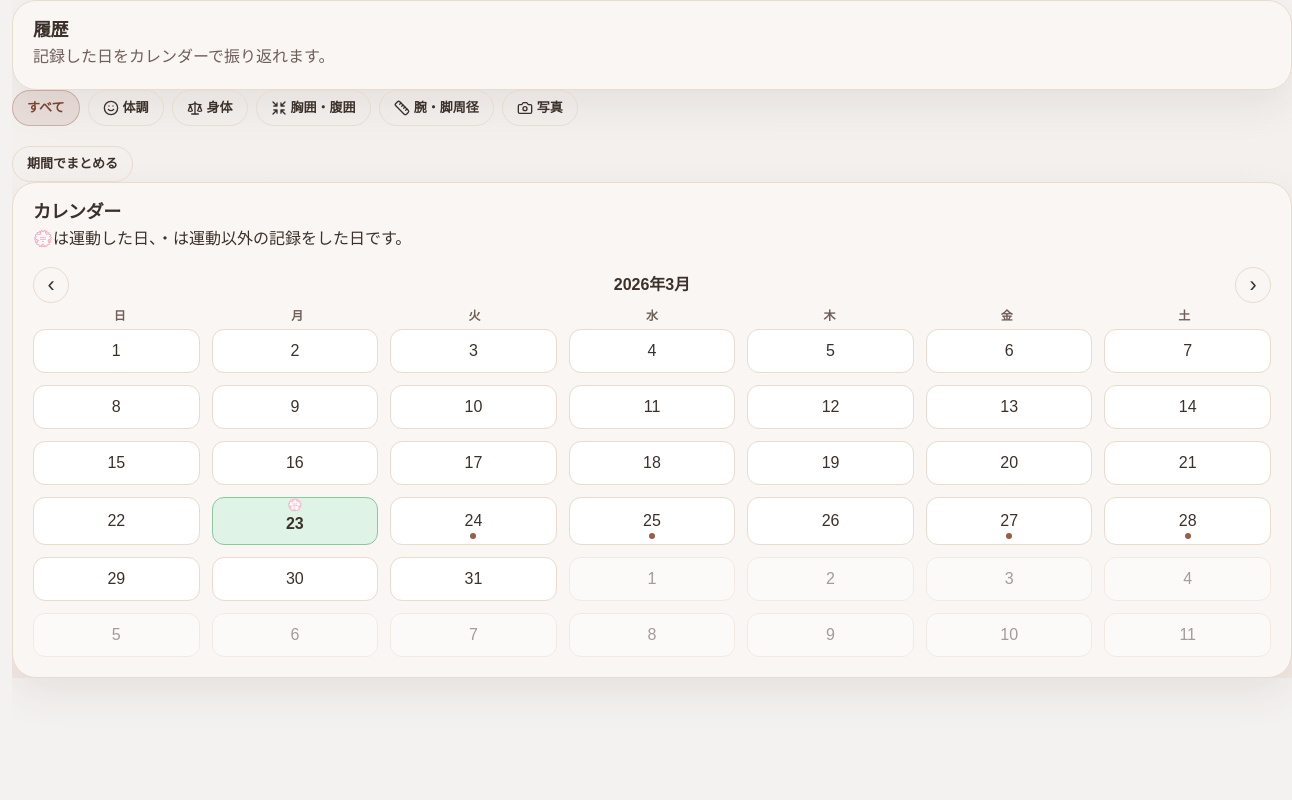
Test: pressing a module chip shows its graph controls instead of the calendar
This screenshot has width=1292, height=800.
Click the tab "身体": click(210, 108) [172,90,248,126]
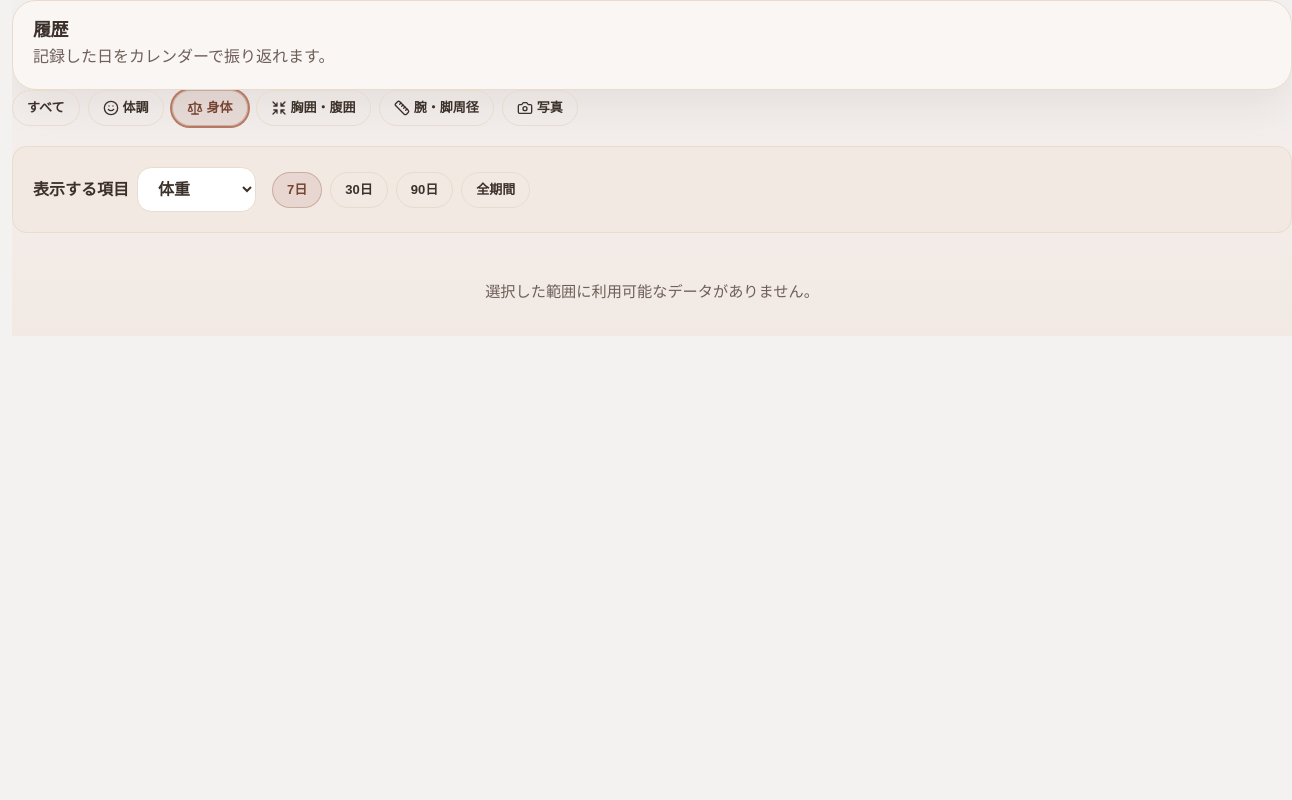
Now the text "表示する項目" is shown, box [33,178,129,202]
Now the button "7日" is shown, box [272,172,322,208]
Click the tab "すべて": click(46, 108) [12,90,80,126]
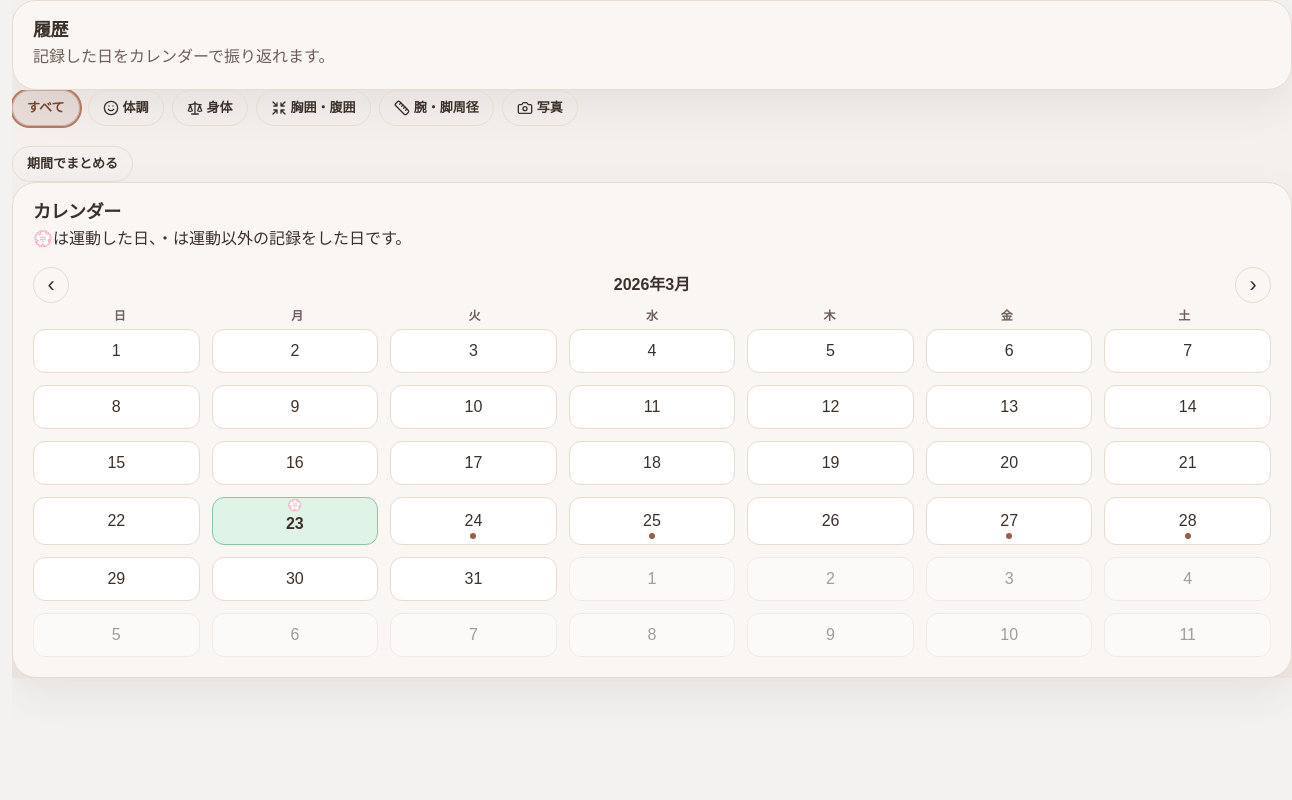
Now the heading "カレンダー" is shown, box [33,202,121,222]
